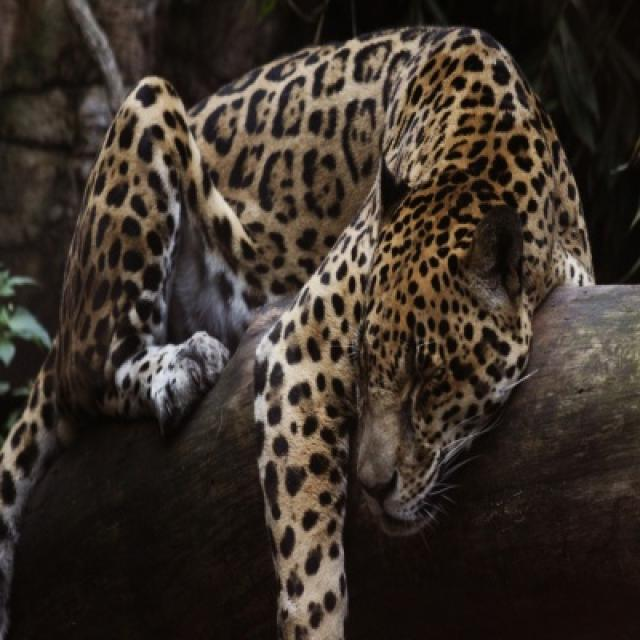Jaguar: (0, 27, 595, 638)
